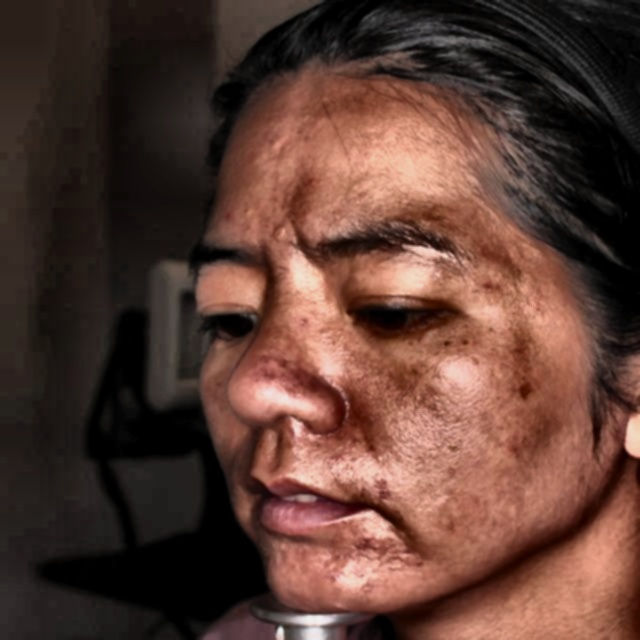comedone: (215, 201, 245, 235)
